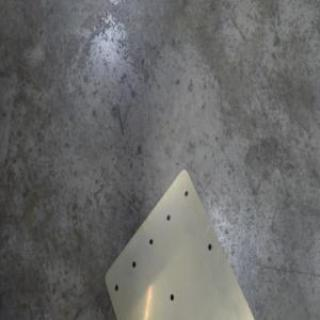MetalSheettrack_idkeyframe: (103, 162, 259, 319)
